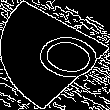O_SE: (8, 22, 102, 88)
